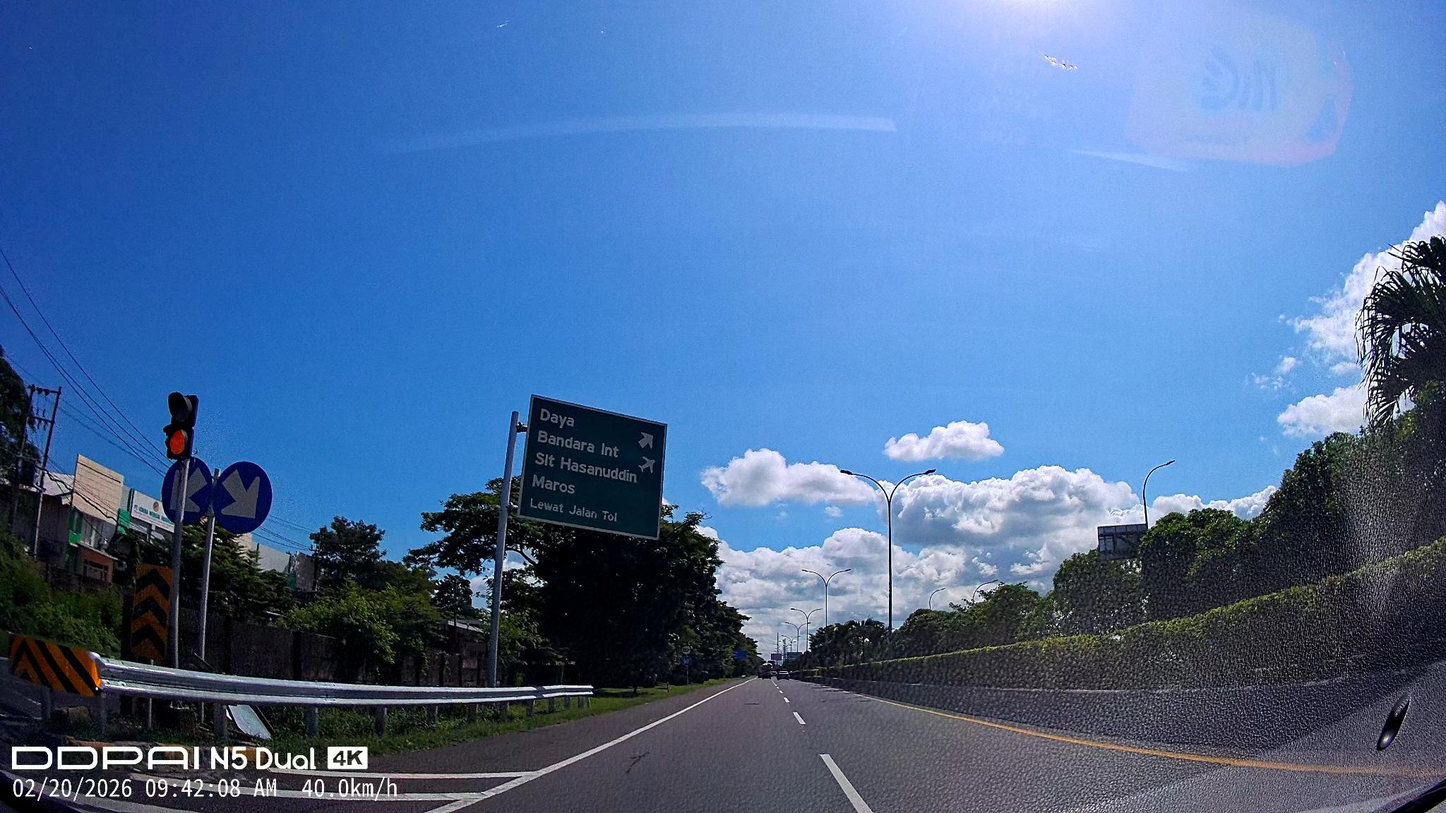rambu_teks: (523, 397, 664, 534)
